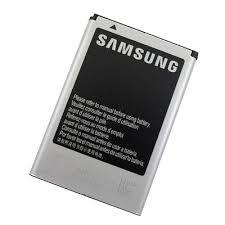battery: (17, 0, 207, 224)
